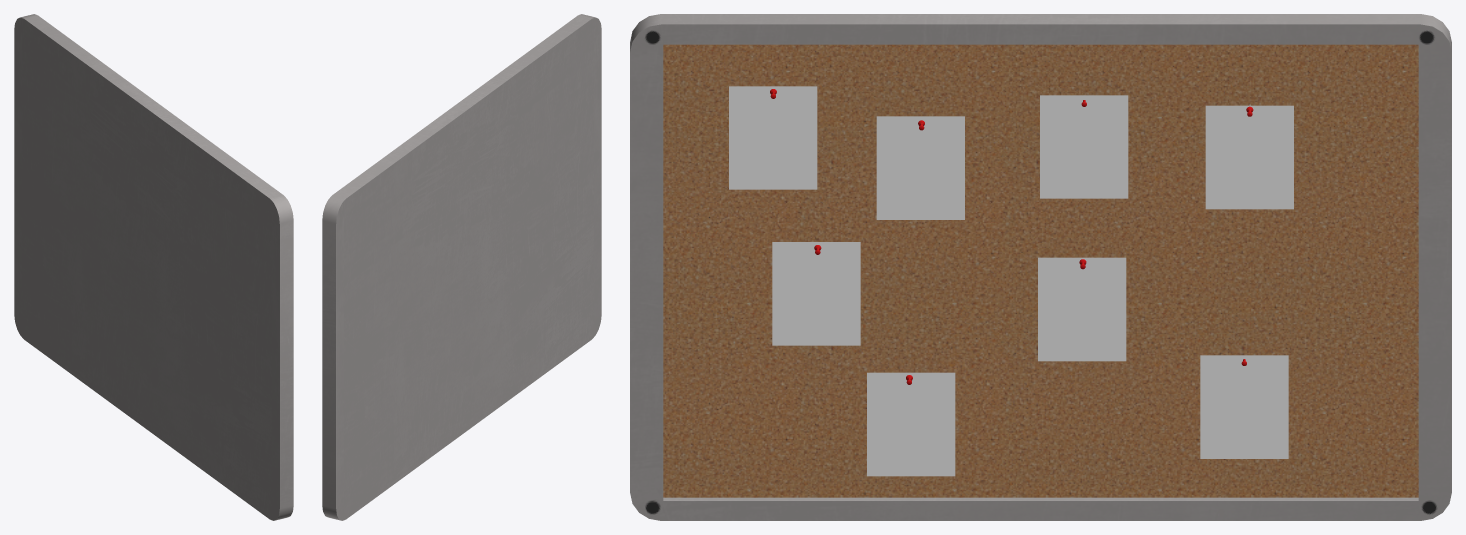
Rendered from board.gltf.
The picture shows the model from 3 angles, left to right: view 1: azimuth 30°, elevation 25°; view 2: azimuth 150°, elevation 25°; view 3: azimuth 270°, elevation 25°; orthographic projection. The views are drawn at different scales.
Parts seen in each view (by area): view 1: SM_notice_board; view 2: SM_notice_board; view 3: SM_notice_board, Plane.004, Plane.003, Plane.006, Plane.007, Plane.005, Plane.002, Plane.001, Plane.
Part boxes in pixels (left/top/right/bottom): SM_notice_board: left=14, top=14, right=293, bottom=520; SM_notice_board: left=322, top=14, right=601, bottom=520; SM_notice_board: left=630, top=14, right=1451, bottom=520; Plane.004: left=1038, top=257, right=1126, bottom=361; Plane.003: left=1205, top=105, right=1293, bottom=209; Plane.006: left=867, top=372, right=955, bottom=476; Plane.007: left=1040, top=95, right=1128, bottom=198; Plane.005: left=1200, top=355, right=1288, bottom=458; Plane.002: left=772, top=242, right=860, bottom=345; Plane.001: left=876, top=116, right=964, bottom=219; Plane: left=729, top=86, right=817, bottom=189.
Bounding box in the file's own units: 4.3 × 60 × 90.
17 materials, 17 textured.
